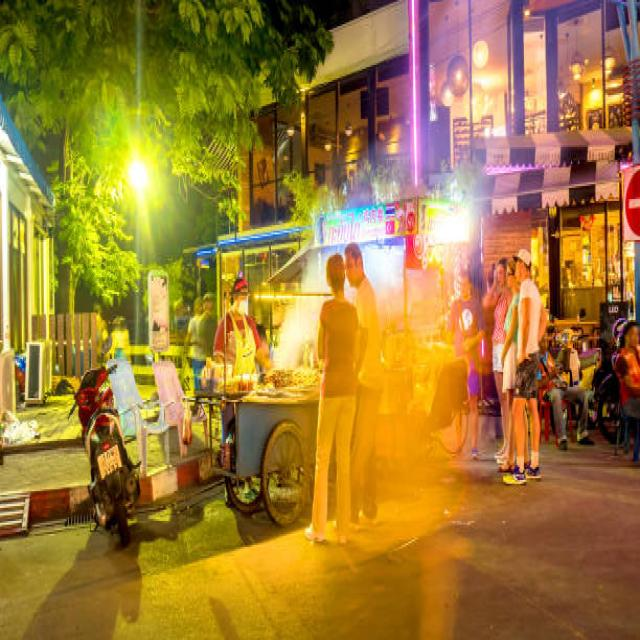Emperan: (206, 305, 372, 530)
